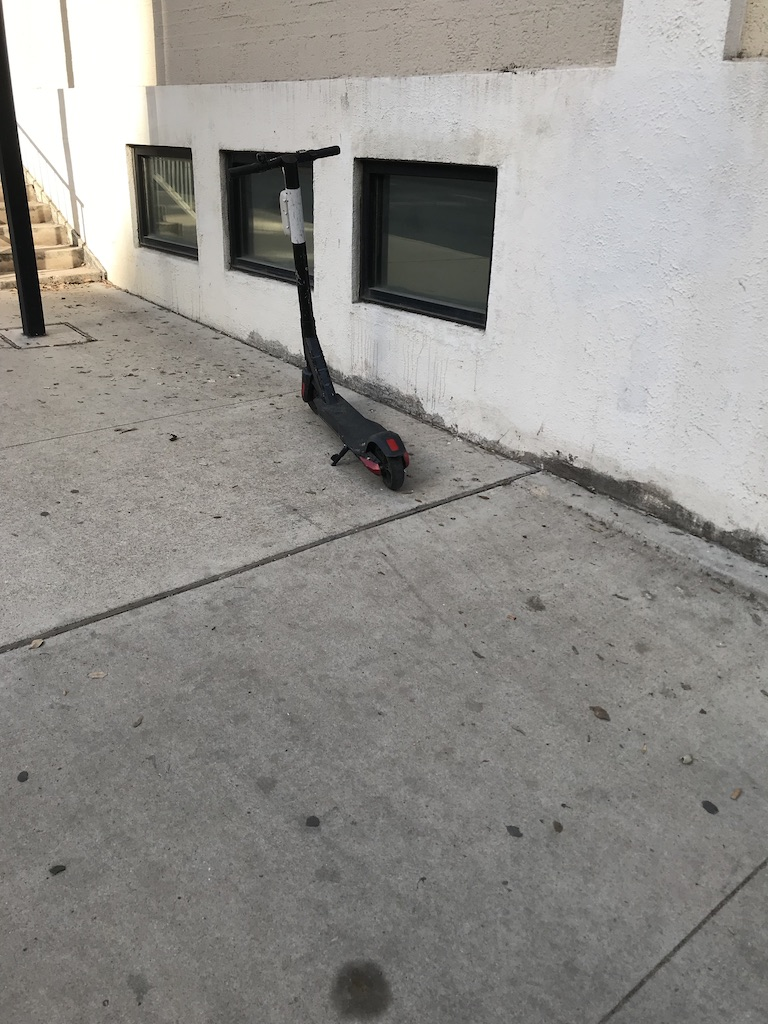scooter: (227, 144, 412, 492)
